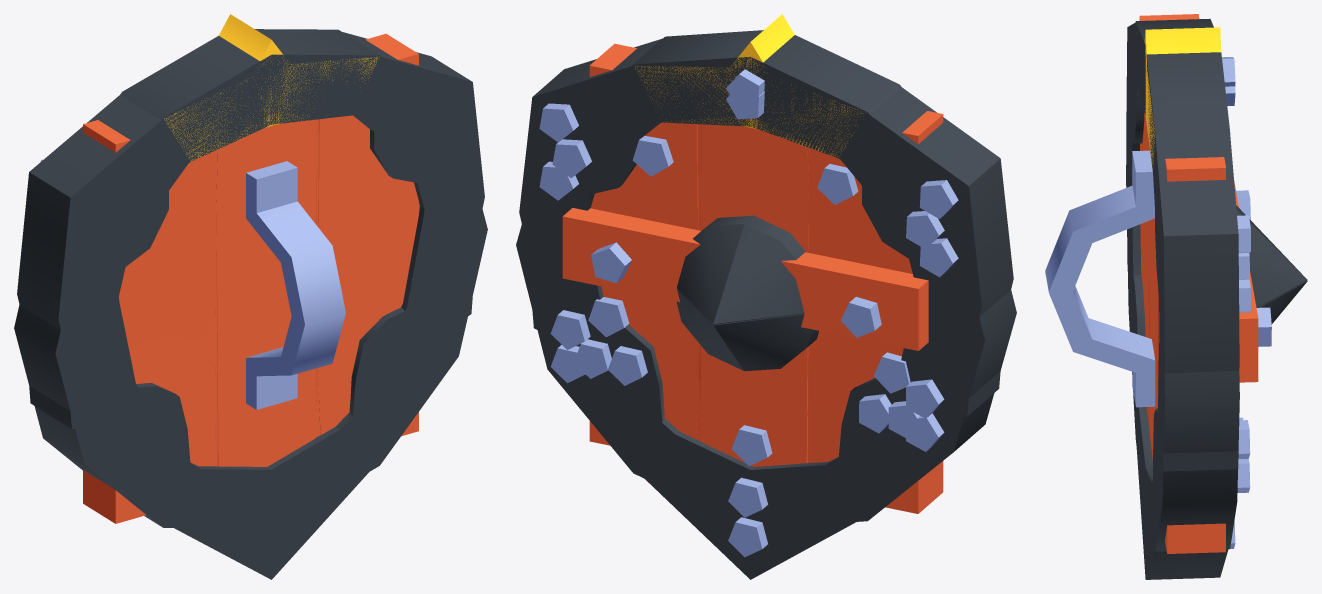
Rendered from Shield.fbx.
3 views of the same model, side by side, from view 1: azimuth 30°, elevation 25°; view 2: azimuth 150°, elevation 25°; view 3: azimuth 270°, elevation 25° (orthographic). The views are drawn at different scales.
Parts seen in each view (by area): view 1: Shield_03, Shield_01, Shield_06, Shield_07, Shield_02, Shield_08, Shield_09; view 2: Shield_01, Shield_06, Shield_03, Shield_07, Shield_08, Shield_02, Shield_05, Shield_09; view 3: Shield_06, Shield_03, Shield_01, Shield_02, Shield_07, Shield_09, Shield_08, Shield_05.
Boxes of the visible parts, x1,y1,x2,y2 form: Shield_03: [14, 29, 487, 527]; Shield_01: [83, 33, 418, 523]; Shield_06: [17, 32, 484, 579]; Shield_07: [65, 56, 479, 520]; Shield_02: [215, 119, 419, 466]; Shield_08: [29, 141, 479, 519]; Shield_09: [164, 14, 379, 161]; Shield_01: [562, 43, 943, 513]; Shield_06: [519, 39, 1013, 579]; Shield_03: [516, 30, 1016, 527]; Shield_07: [525, 65, 976, 579]; Shield_08: [525, 198, 1000, 577]; Shield_02: [588, 124, 910, 466]; Shield_05: [676, 288, 818, 371]; Shield_09: [635, 14, 865, 156]; Shield_06: [1047, 22, 1307, 579]; Shield_03: [1126, 18, 1250, 551]; Shield_01: [1045, 14, 1271, 553]; Shield_02: [1045, 150, 1155, 405]; Shield_07: [1126, 51, 1250, 565]; Shield_09: [1144, 27, 1221, 164]; Shield_08: [1126, 119, 1243, 476]; Shield_05: [1258, 281, 1307, 324].
Bounding box in the file's own units: 104 × 118 × 50.97.
